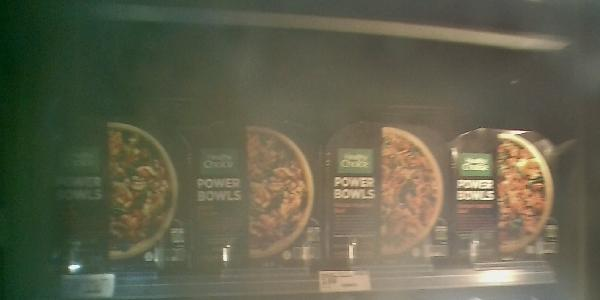pizza: (34, 111, 191, 265), (193, 123, 329, 263), (453, 129, 580, 262), (332, 128, 452, 262)
